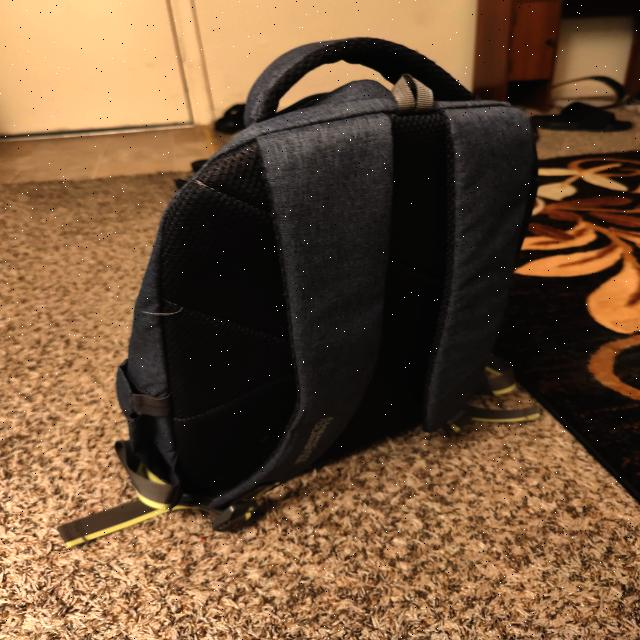bag: (119, 36, 522, 490)
